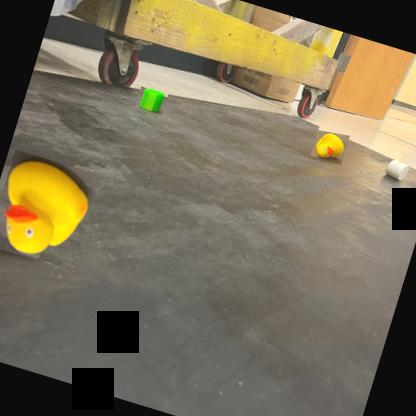duck: (0, 149, 100, 271), (310, 126, 349, 165)
green cylinder: (134, 83, 168, 116)
white cylinder: (382, 155, 412, 184)
